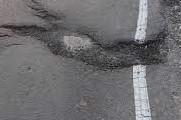crack: (1, 17, 169, 74)
